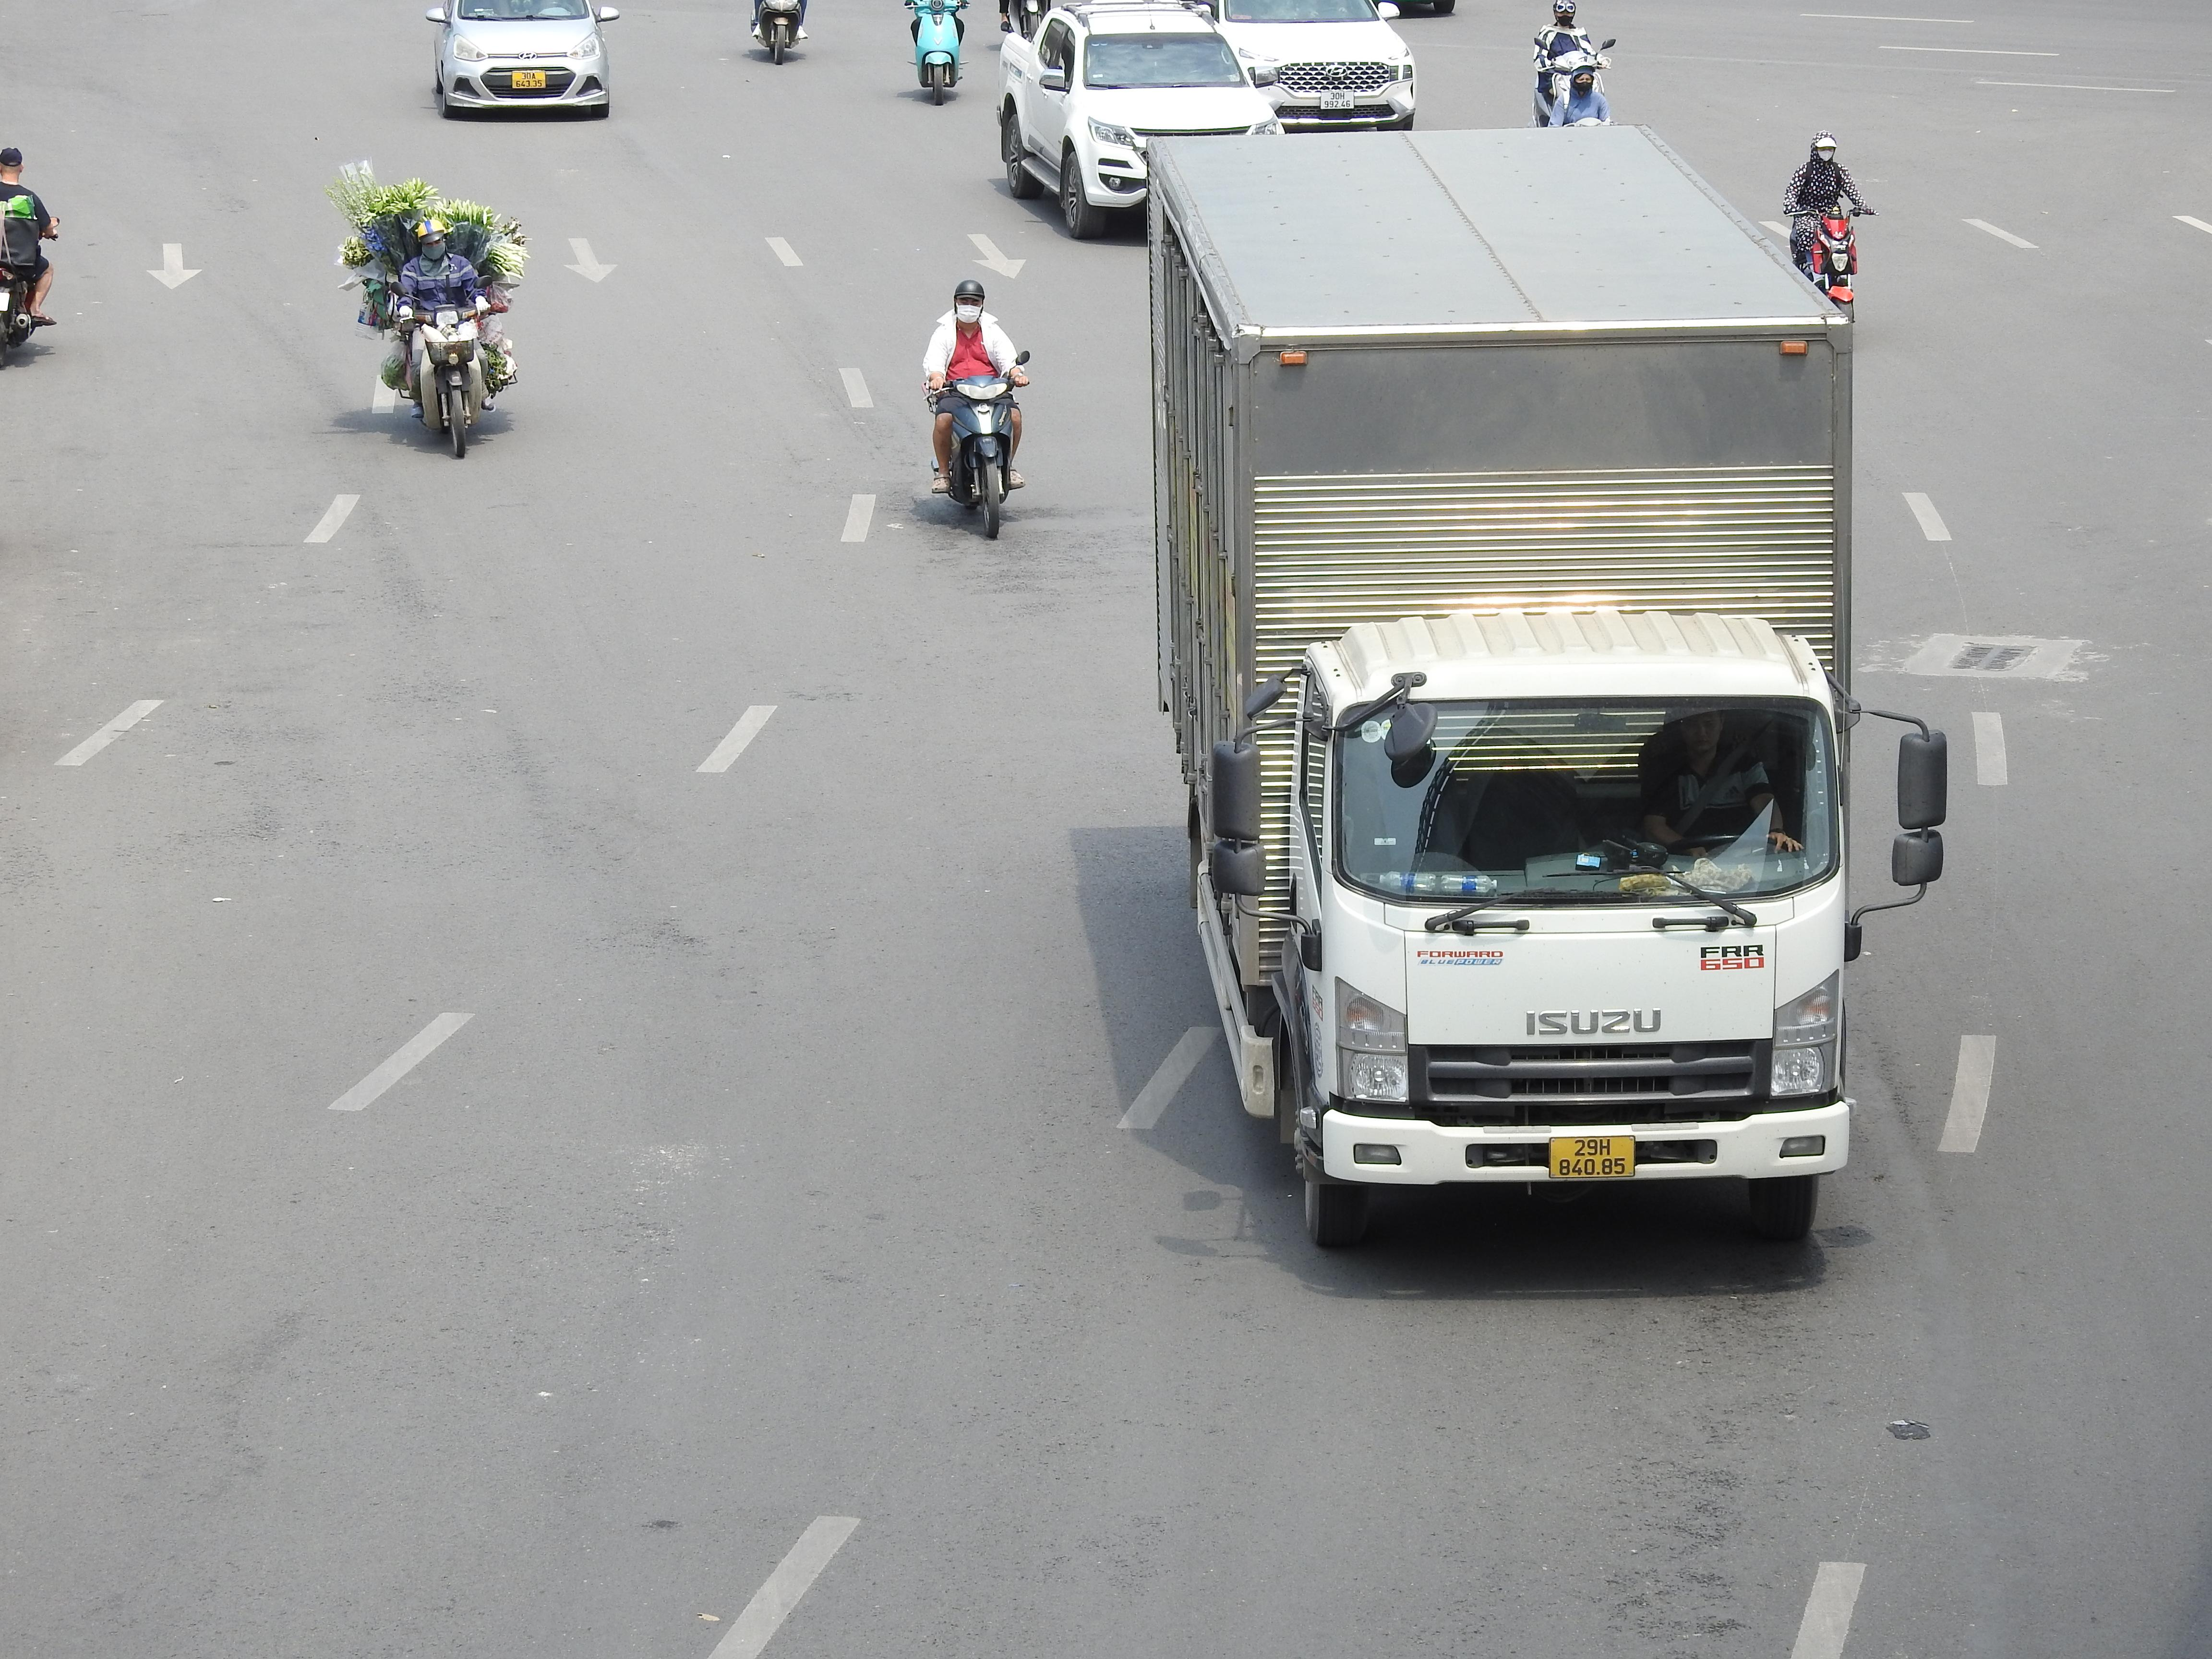BSV: (1548, 1136, 1634, 1180), (1320, 91, 1355, 110), (512, 70, 545, 89)
car: (993, 0, 1282, 239), (1183, 0, 1421, 132), (423, 0, 618, 120)
motorbike: (390, 211, 516, 458), (925, 281, 1029, 540), (1782, 131, 1869, 303), (0, 146, 57, 371), (1529, 0, 1615, 127), (906, 0, 968, 106), (747, 0, 810, 64)
truck: (1139, 120, 1952, 1253)
